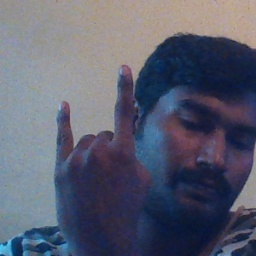V: (49, 62, 154, 231)
